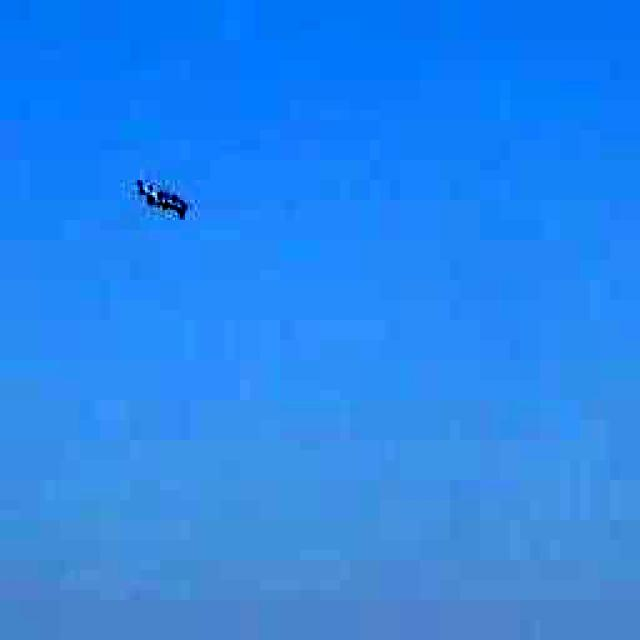bird: (119, 168, 209, 232)
